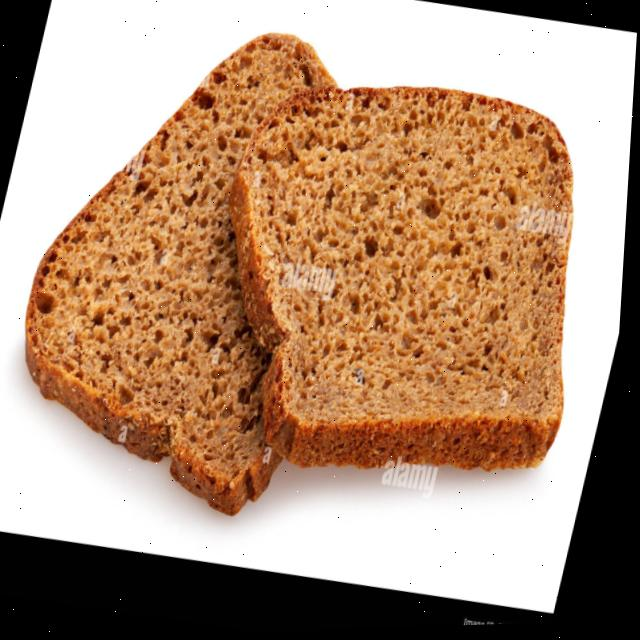Bread: (29, 35, 332, 515), (232, 88, 576, 473)
